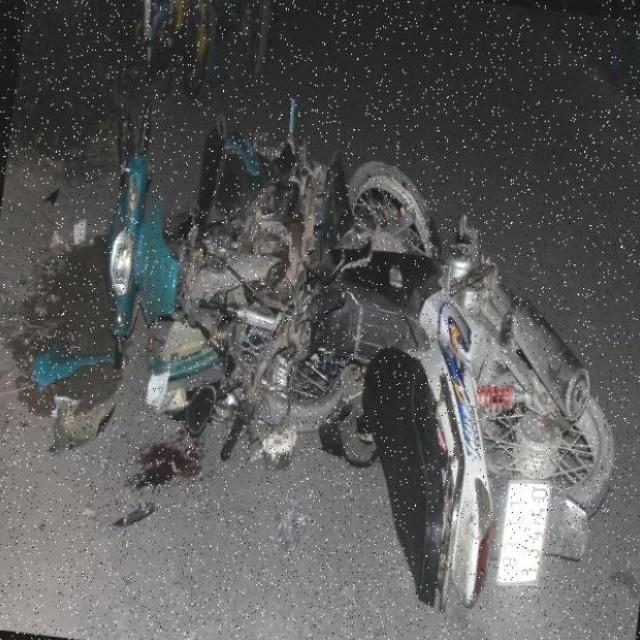accident: (36, 4, 640, 640)
